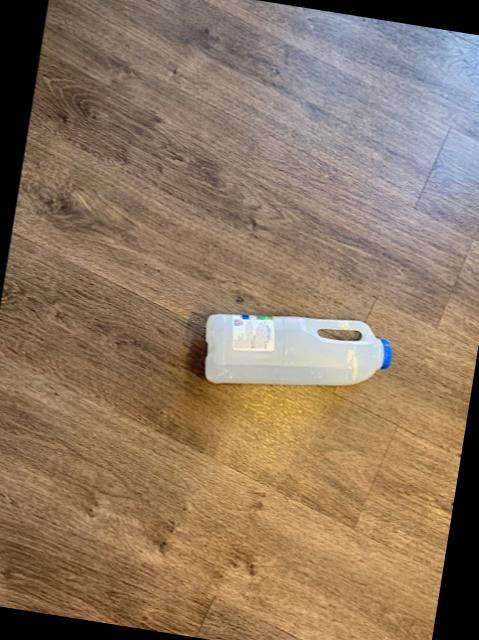plastic: (206, 311, 392, 382)
